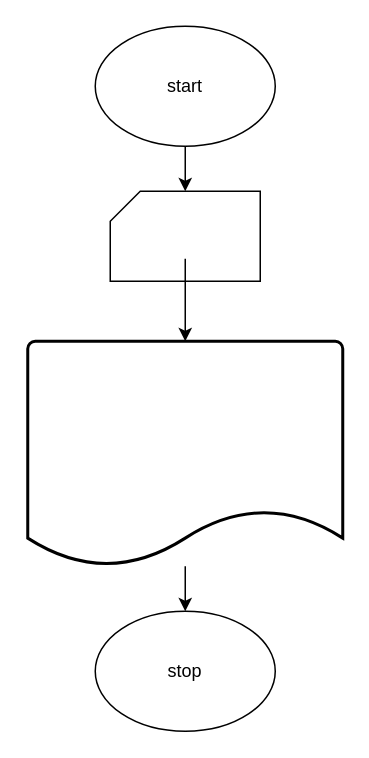
The diagram is 369 pixels wide and 758 high, and some of its shapes have lost their labels. The shapes that lost their labels are listed below. From the top down, each one's centre as x and y in pixels, then its label:
At point 184,235: "price".
At point 185,453: "price - (price / 1.18)".
